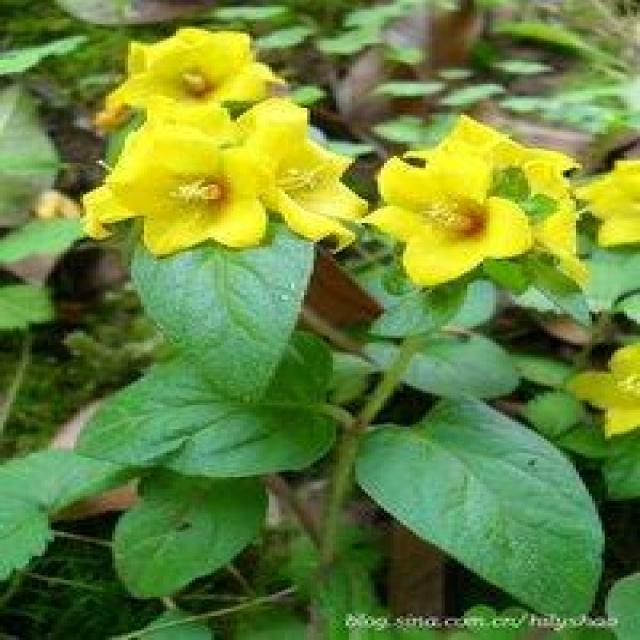organic waste: (386, 132, 578, 295), (96, 123, 278, 250), (77, 18, 275, 116), (238, 103, 360, 259), (526, 144, 636, 244), (574, 332, 638, 452)
